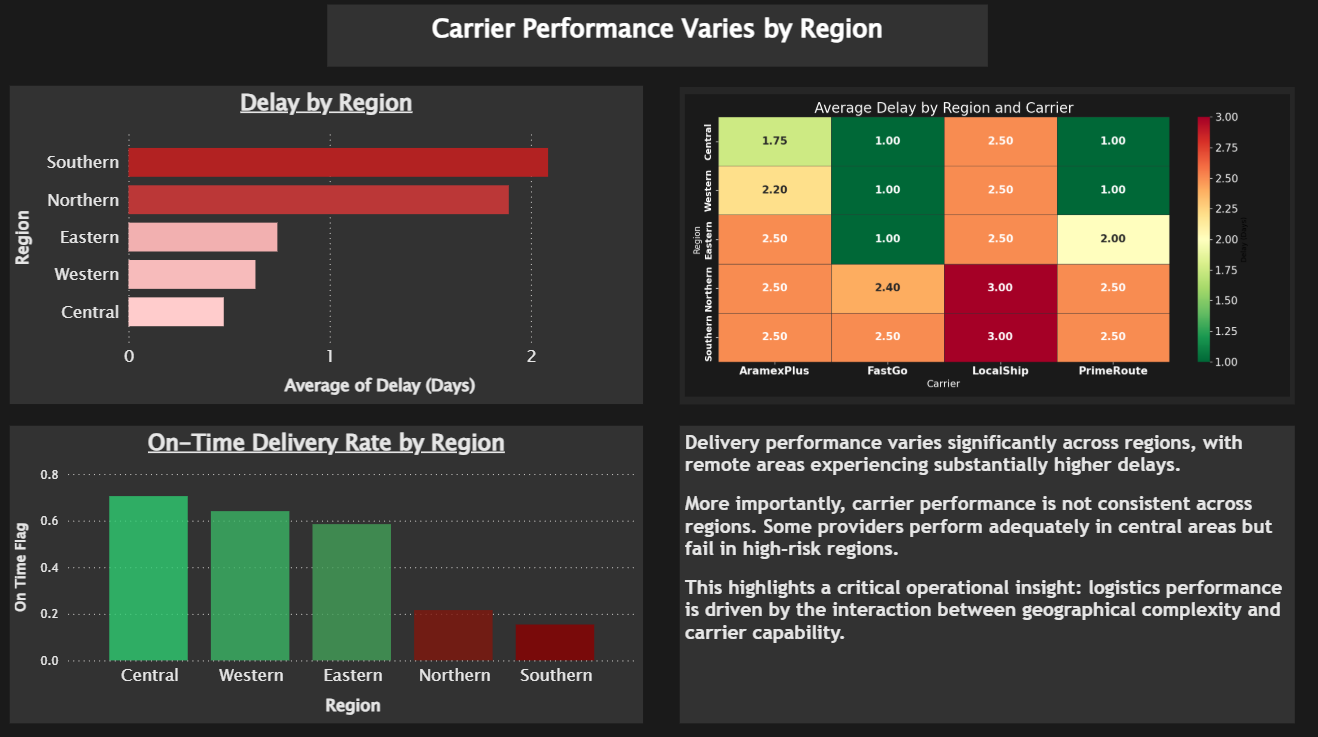

Layout of this report page (visuals, bound fields, positions):
{"tool":"powerbi","page":{"name":"Regional Risk Analysis","canvas":[1280,720],"ordinal":3},"visuals":[{"type":"clusteredBarChart","title":"Delay by Region","fields":{"Category":["logistics_analysis_results.region"],"Y":["Avg(logistics_analysis_results.delay_days)"]},"box":[13.8,90,611.2,307.5],"z":0},{"type":"clusteredColumnChart","title":"On-Time Delivery Rate by Region","fields":{"Y":["Avg(logistics_analysis_results.on_time_flag)"],"Category":["logistics_analysis_results.region"]},"box":[13.8,418.8,611.2,287.5],"z":1000},{"type":"textbox","box":[660,418.8,593.8,287.5],"z":2000},{"type":"pythonVisual","fields":{"Values":["logistics_analysis_results.delay_days","logistics_analysis_results.region","logistics_analysis_results.carrier"]},"box":[660,91.2,593.8,306.2],"z":3000},{"type":"textbox","box":[320,12.5,637.5,60],"z":4000}]}

Visuals, with their boxes in screenshot pixels (x1, y1, x2, y2), scaled from the page's 1280x720 canvas onto the 1318x737 screenshot:
"Delay by Region" clusteredBarChart: (14,92,644,407)
"On-Time Delivery Rate by Region" clusteredColumnChart: (14,429,644,723)
textbox: (680,429,1291,723)
pythonVisual - logistics_analysis_results.delay_days x logistics_analysis_results.region: (680,93,1291,407)
textbox: (330,13,986,74)
